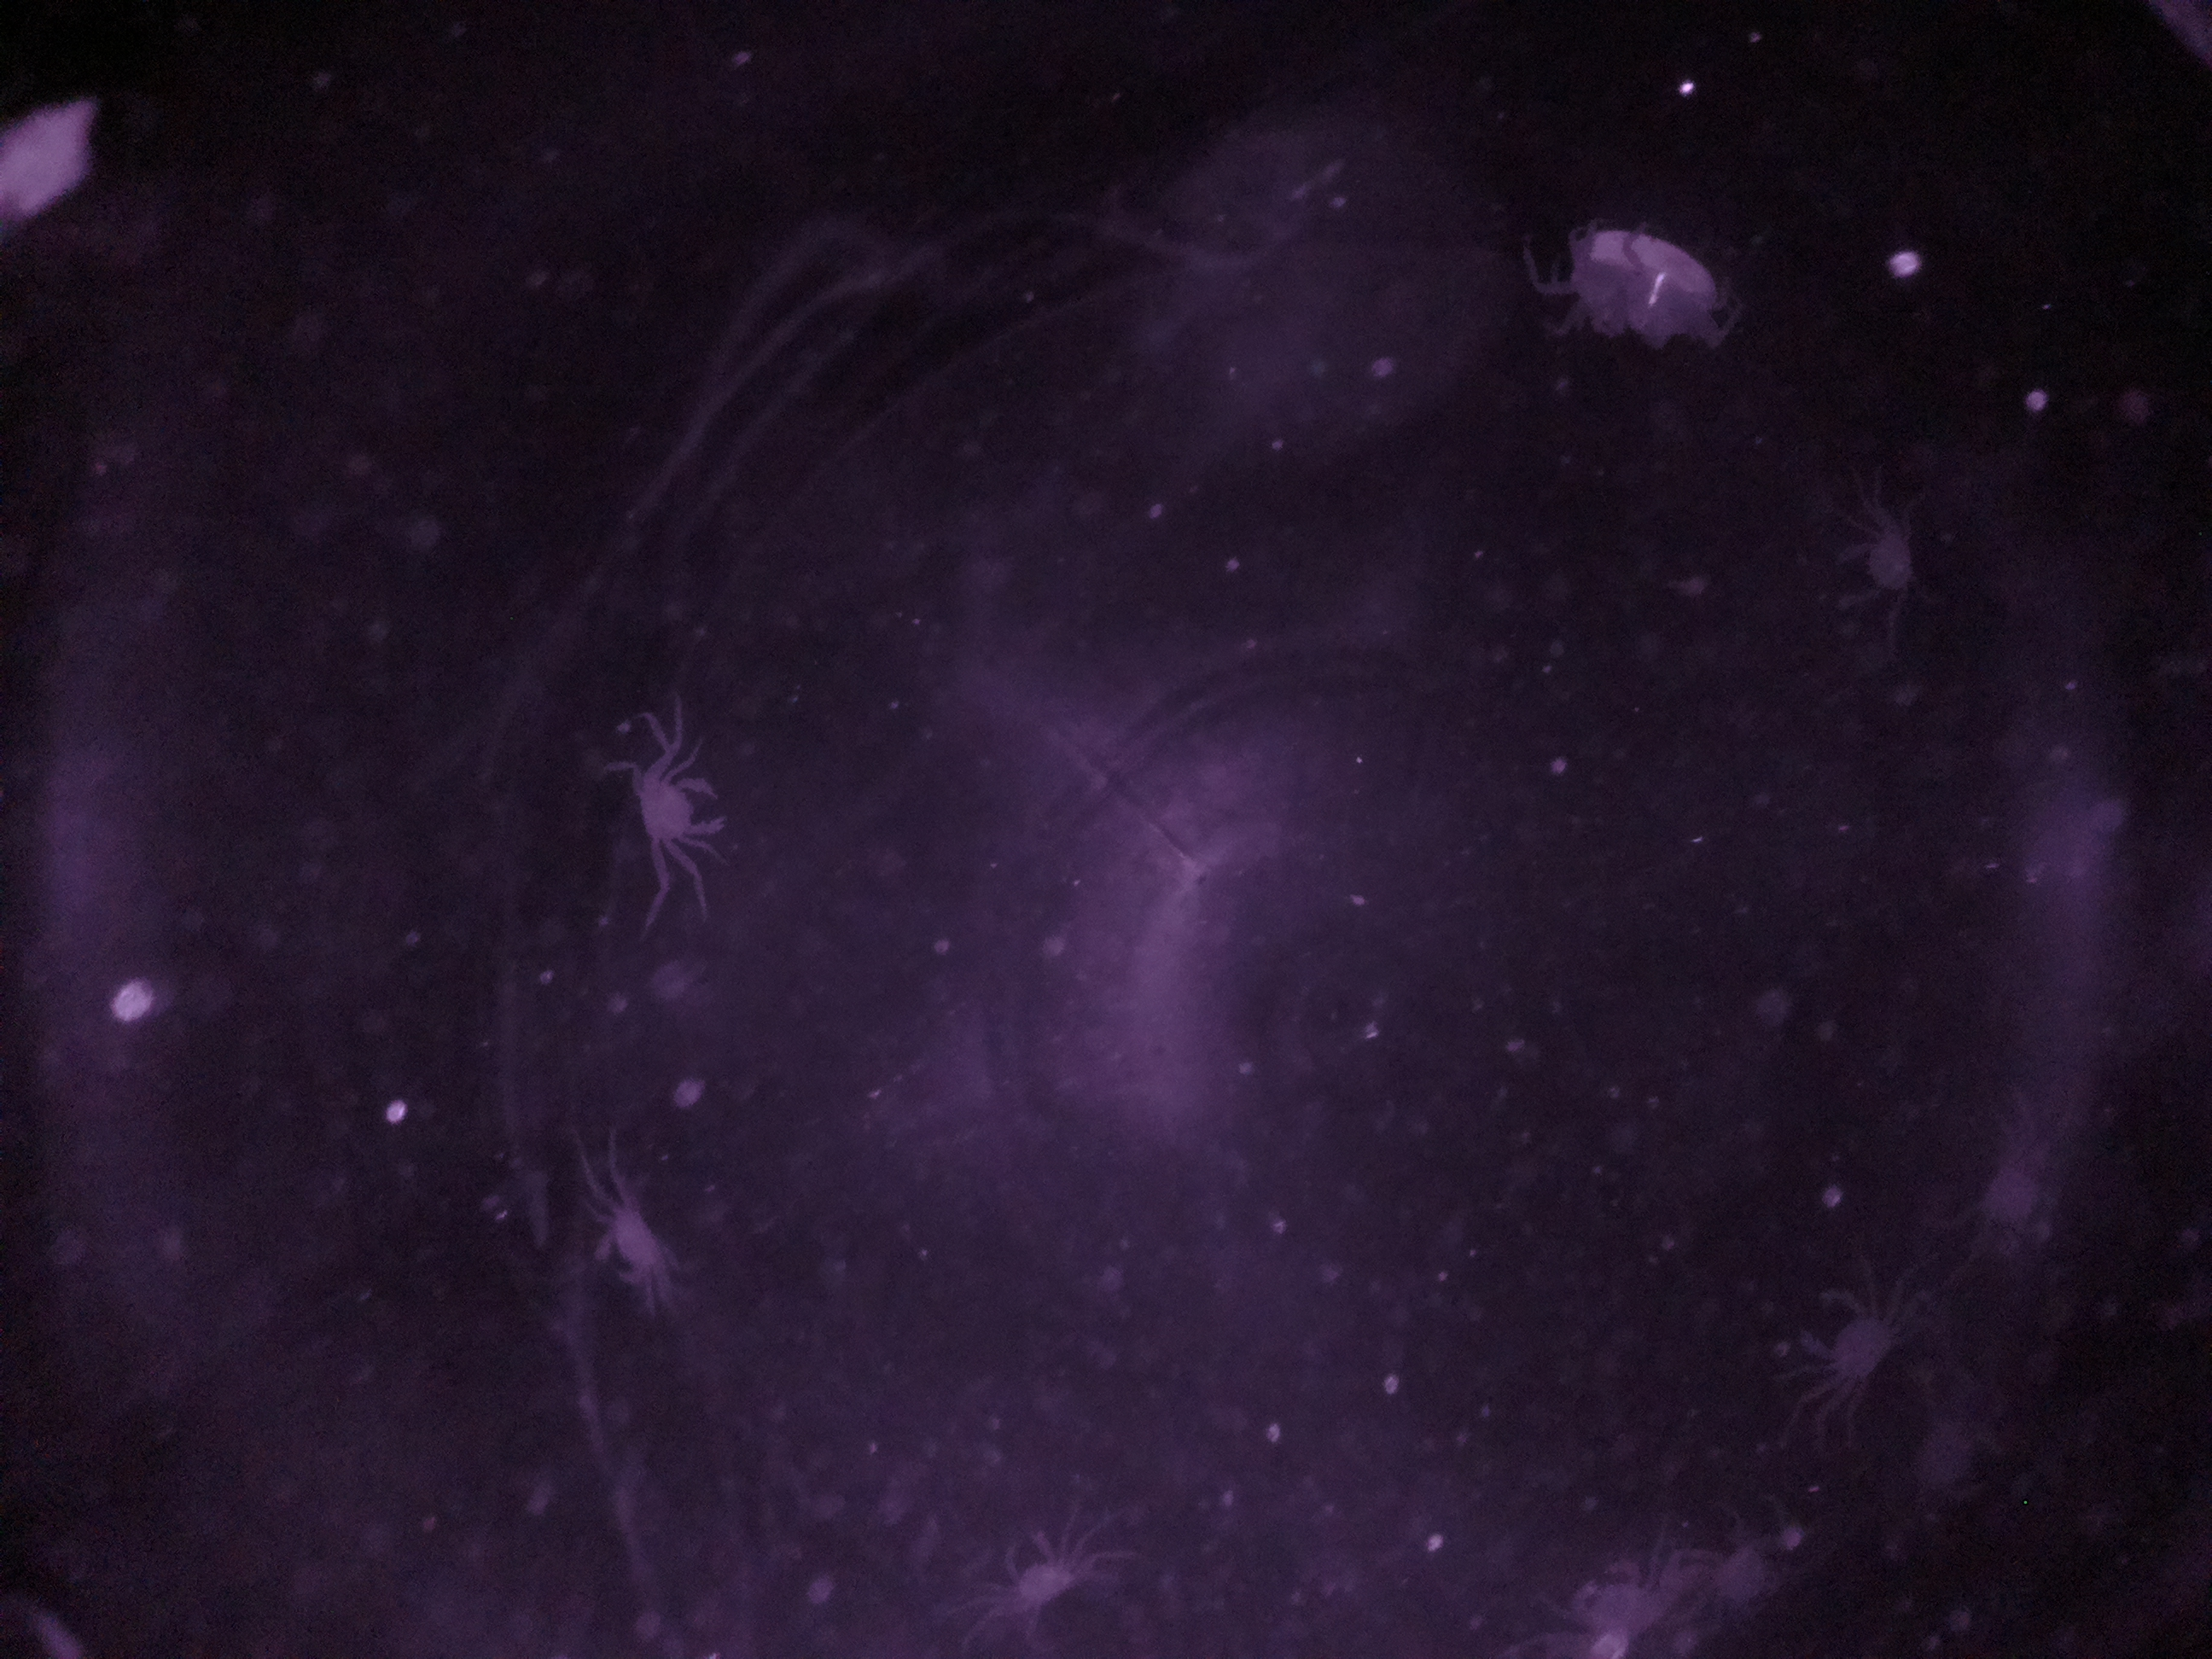Crab: (965, 1506, 1125, 1633), (1768, 1267, 1919, 1401), (1815, 502, 1958, 626), (571, 1176, 686, 1309), (615, 751, 751, 863)
